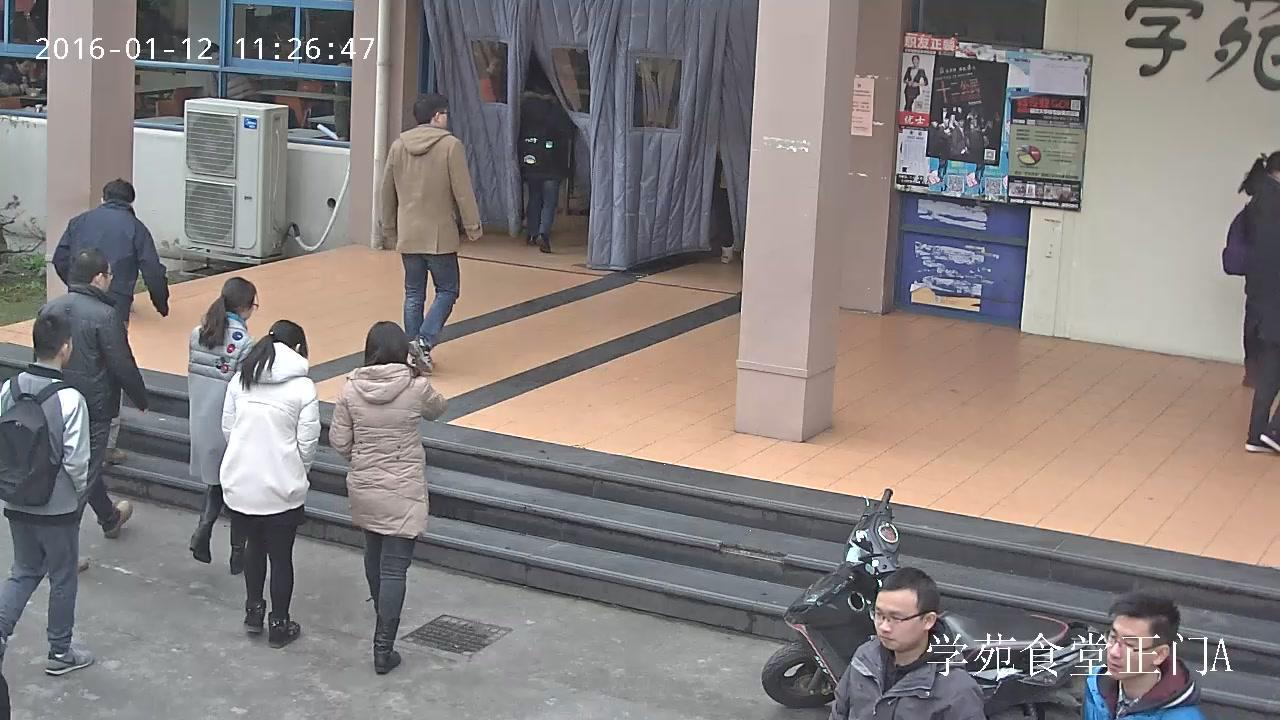person: (328, 320, 447, 673), (0, 311, 95, 676), (32, 247, 151, 538), (219, 319, 322, 648), (52, 177, 168, 466), (379, 92, 483, 372), (824, 567, 986, 720), (186, 277, 260, 574), (1221, 150, 1280, 452), (1081, 591, 1209, 720), (517, 69, 577, 254), (201, 41, 263, 107), (0, 57, 40, 98), (903, 55, 928, 112)
